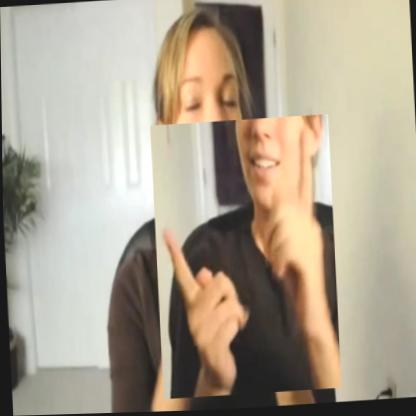NiceToMeetYou: (150, 116, 340, 401)
